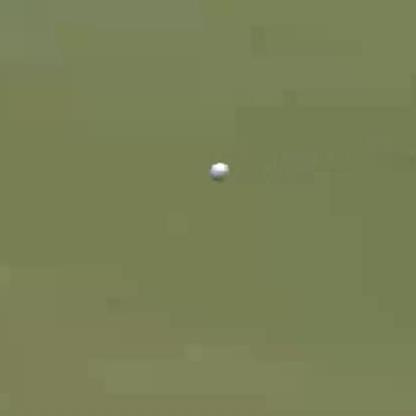golfball: (208, 160, 228, 180)
